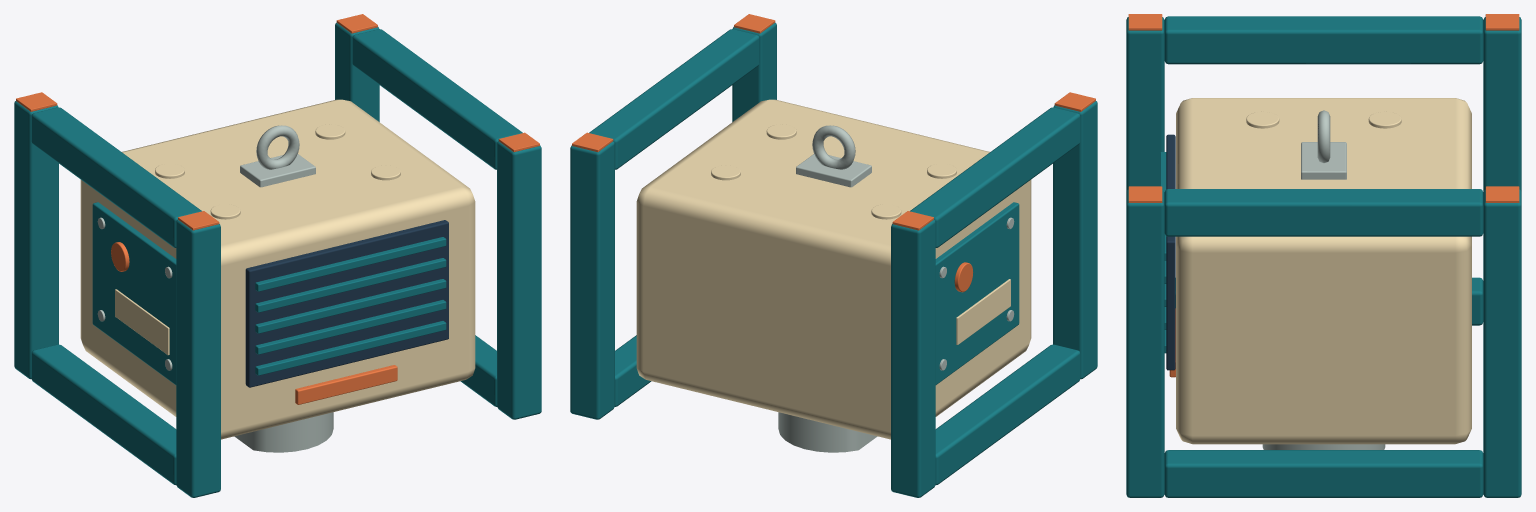
Rendered from generator-lod-0.glb.
3 renders of one model, left to right at view 1: azimuth 30°, elevation 25°; view 2: azimuth 150°, elevation 25°; view 3: azimuth 270°, elevation 25°, orthographic. The views are drawn at different scales.
Visible parts, largest first — view 1: generator_lod_0; view 2: generator_lod_0; view 3: generator_lod_0.
Part boxes in pixels (left/top/right/bottom): generator_lod_0: left=14, top=14, right=541, bottom=497; generator_lod_0: left=570, top=14, right=1097, bottom=497; generator_lod_0: left=1126, top=14, right=1521, bottom=497.
Bounding box in the file's own units: 1.75 × 1.47 × 1.55.
